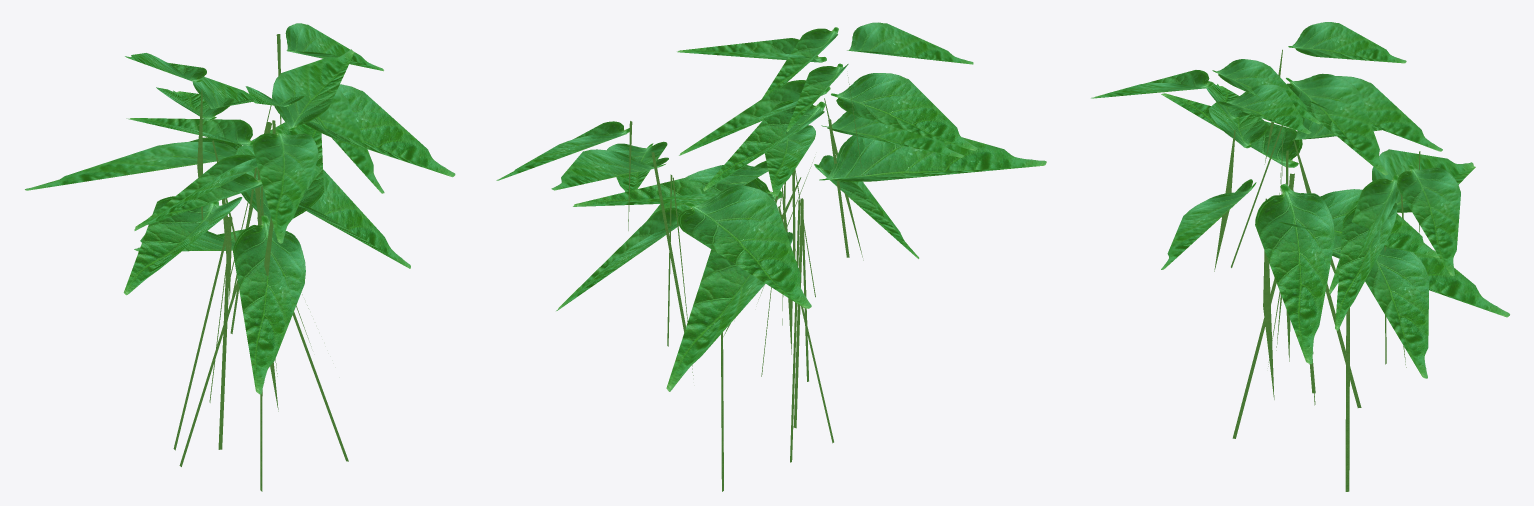
Rendered from Leafy Clump B.glb.
3 renders of one model, left to right at view 1: azimuth 30°, elevation 25°; view 2: azimuth 150°, elevation 25°; view 3: azimuth 270°, elevation 25°, orthographic. The views are drawn at different scales.
Visible parts, largest first — view 1: Leafy Clump B; view 2: Leafy Clump B; view 3: Leafy Clump B.
Part boxes in pixels (box(x1,y1,x2,y2)): Leafy Clump B: box(25, 23, 455, 491); Leafy Clump B: box(496, 22, 1046, 491); Leafy Clump B: box(1091, 22, 1509, 491).
Size of the model in its own units: 0.4847 by 0.5 by 0.462.
1 material, 1 textured.
